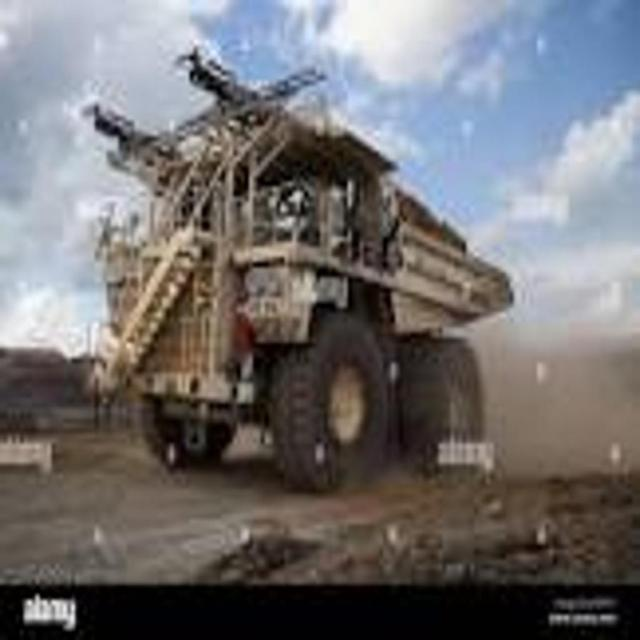dump_truck: (85, 37, 518, 495)
